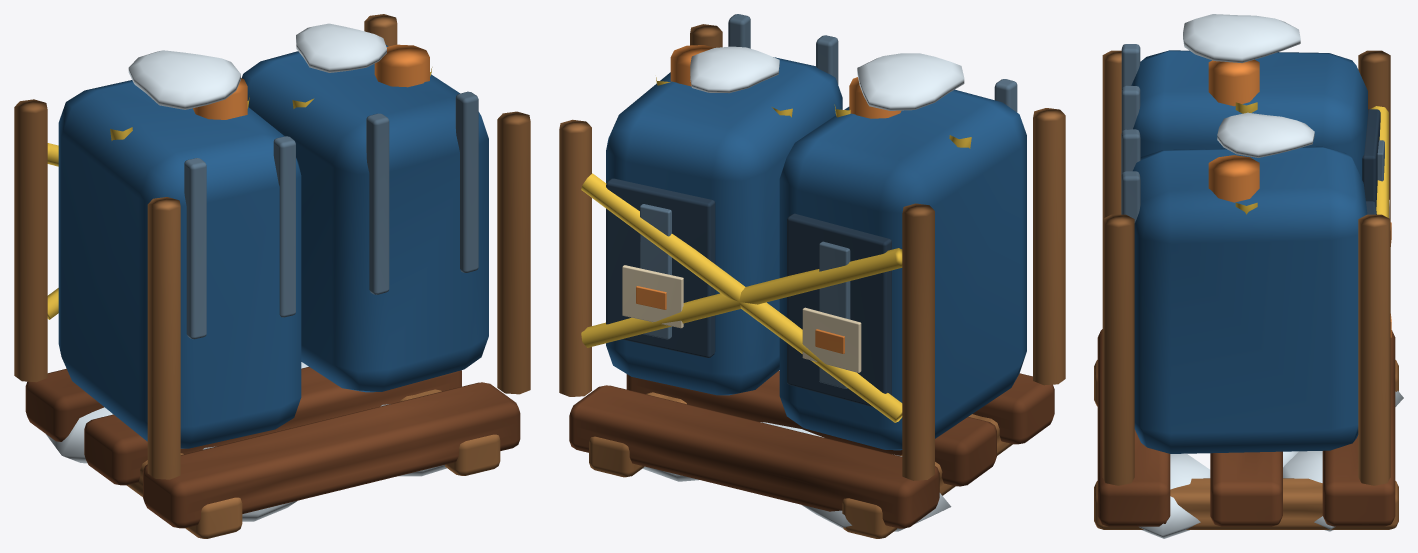
File: fuel_canister.glb
The picture shows the model from 3 angles, left to right: view 1: azimuth 30°, elevation 25°; view 2: azimuth 150°, elevation 25°; view 3: azimuth 270°, elevation 25°; orthographic projection. The views are drawn at different scales.
Visible parts, largest first — view 1: fuel_canister; view 2: fuel_canister; view 3: fuel_canister.
Boxes of the visible parts, x1,y1,x2,y2 form: fuel_canister: [14, 14, 530, 538]; fuel_canister: [559, 14, 1065, 538]; fuel_canister: [1094, 14, 1403, 538].
Bounding box in the file's own units: 1.02 × 1.08 × 0.7511.
